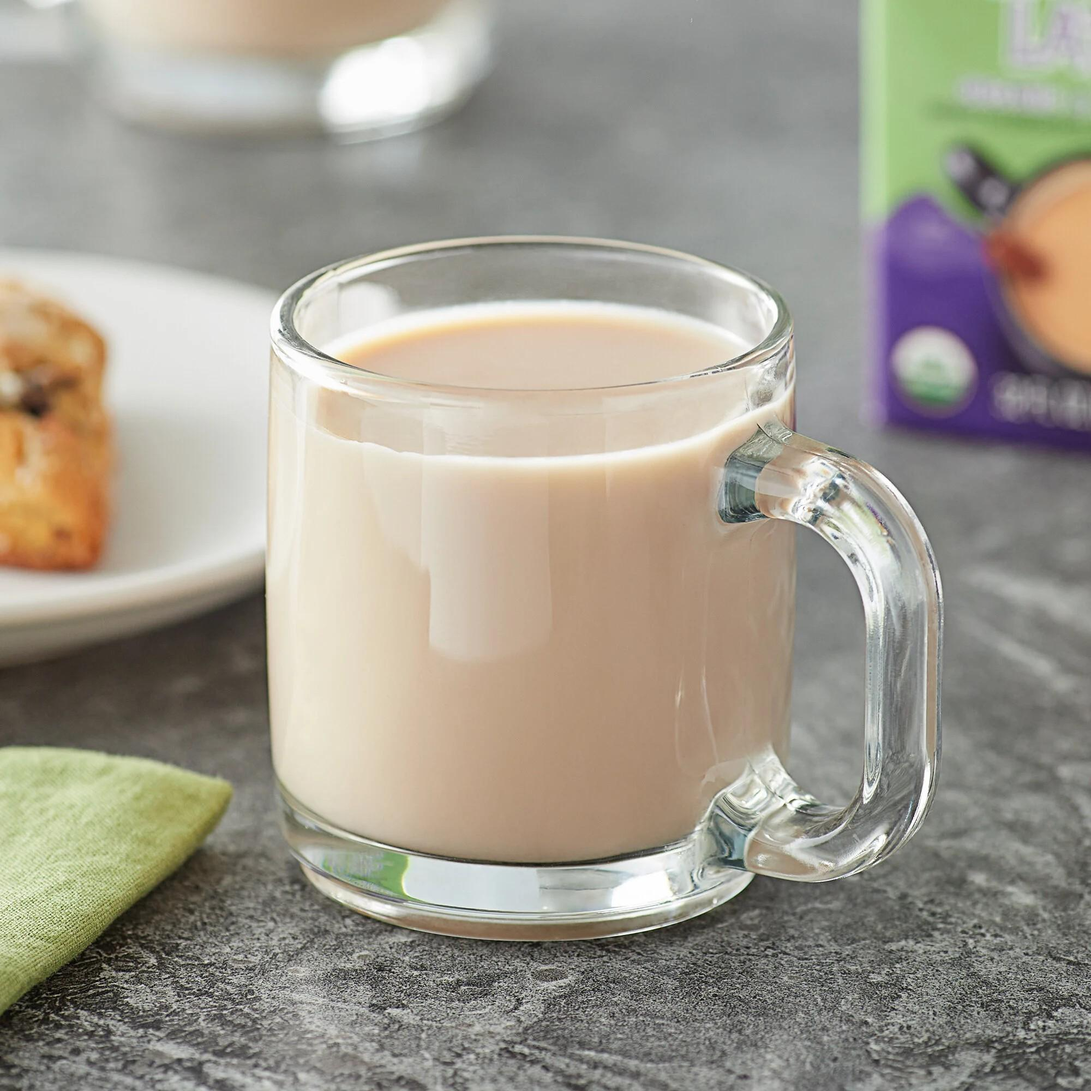Chai: (276, 299, 792, 865)
